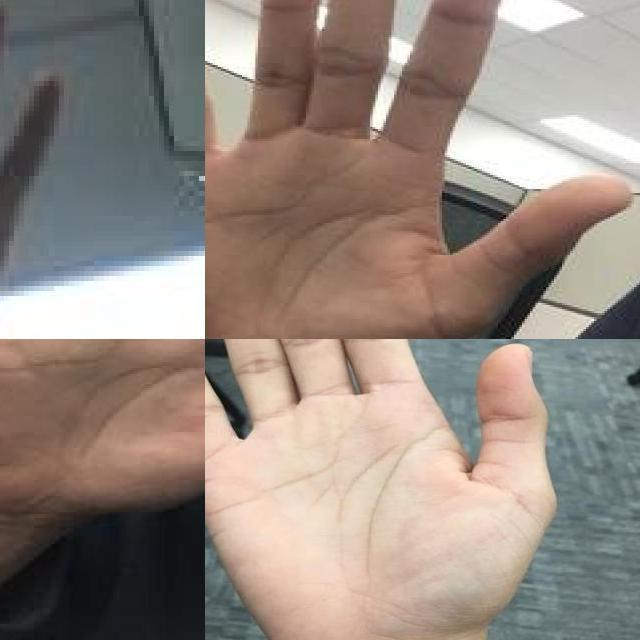hand: (205, 0, 640, 339), (205, 339, 556, 640), (0, 339, 205, 552), (0, 0, 64, 339)
